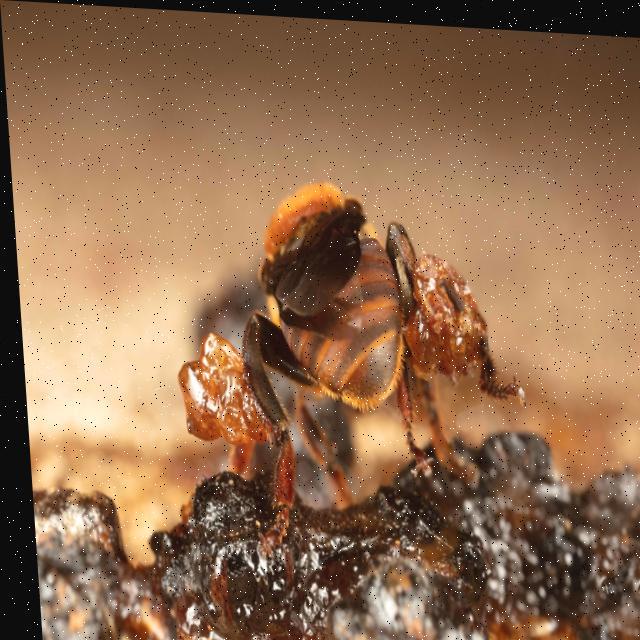Meliponula: (218, 156, 506, 507)
